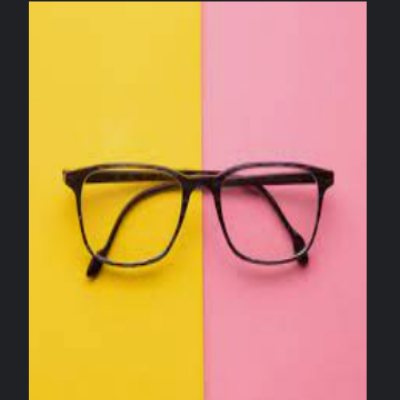glasses: (59, 155, 338, 286)
